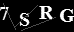7: (1, 6, 9, 21)
G: (58, 8, 74, 23)
R: (37, 5, 54, 21)
S: (18, 12, 30, 28)
